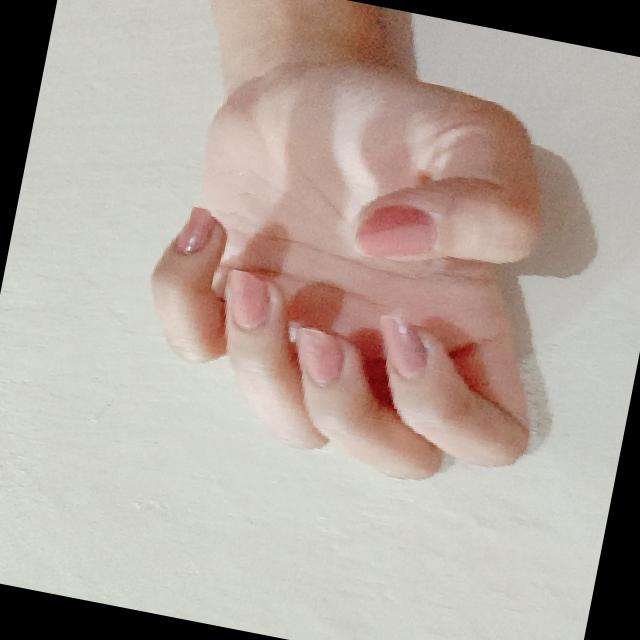Nail: (356, 205, 436, 256), (380, 316, 426, 377), (295, 327, 343, 381), (230, 270, 270, 327), (174, 207, 216, 254)
